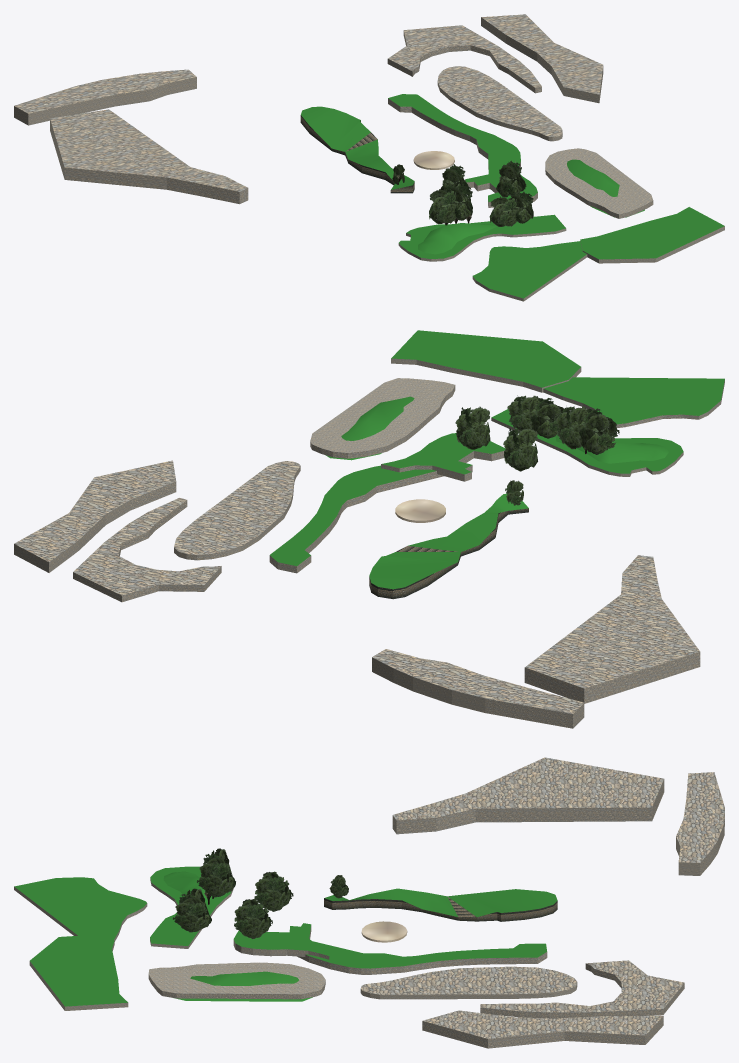
Rendered from building3.fbx.
3 renders of one model, top to bottom at view 1: azimuth 30°, elevation 25°; view 2: azimuth 150°, elevation 25°; view 3: azimuth 270°, elevation 25°, orthographic. The views are drawn at different scales.
Visible parts, largest first — view 1: polySurface118, polySurface117, polySurface109, polySurface116, polySurface114, polySurface110, polySurface115, polySurface105, polySurface111, polySurface113, polySurface107, polySurface108 (+9 smaller); view 2: polySurface118, polySurface117, polySurface109, polySurface116, polySurface114, polySurface110, polySurface115, polySurface111, polySurface105, polySurface113, polySurface106, polySurface107 (+9 smaller); view 3: polySurface118, polySurface116, polySurface114, polySurface109, polySurface105, polySurface110, polySurface115, polySurface111, polySurface113, polySurface117, polySurface106, polySurface107 (+7 smaller).
Part boxes in pixels (x1,y1,x2,y2): polySurface118: (50, 109, 248, 204); polySurface117: (14, 69, 196, 125); polySurface109: (580, 207, 724, 263); polySurface116: (481, 14, 603, 103); polySurface114: (437, 66, 562, 141); polySurface110: (472, 241, 587, 301); polySurface115: (387, 25, 541, 93); polySurface105: (300, 106, 414, 193); polySurface111: (545, 148, 653, 218); polySurface113: (388, 94, 520, 188); polySurface107: (398, 214, 566, 261); polySurface108: (418, 223, 497, 254); polySurface118: (524, 555, 700, 703); polySurface117: (372, 649, 584, 728); polySurface109: (391, 330, 581, 392); polySurface116: (14, 460, 176, 572); polySurface114: (174, 461, 300, 560); polySurface110: (543, 377, 724, 428); polySurface115: (73, 497, 221, 602); polySurface111: (310, 378, 455, 458); polySurface105: (369, 493, 528, 599); polySurface113: (269, 465, 443, 573); polySurface106: (381, 433, 505, 481); polySurface107: (491, 409, 683, 476); polySurface118: (392, 757, 664, 834); polySurface116: (422, 1010, 663, 1048); polySurface114: (360, 966, 577, 999); polySurface109: (29, 935, 128, 1010); polySurface105: (324, 888, 557, 921); polySurface110: (14, 877, 147, 941); polySurface115: (480, 960, 684, 1018); polySurface111: (148, 962, 325, 999); polySurface113: (297, 941, 547, 974); polySurface117: (676, 772, 724, 875); polySurface106: (233, 923, 329, 959); polySurface107: (150, 866, 233, 948).
Size of the model in its own units: 61344 by 5370 by 66434.
Materials: 7 (5 with a texture image).
